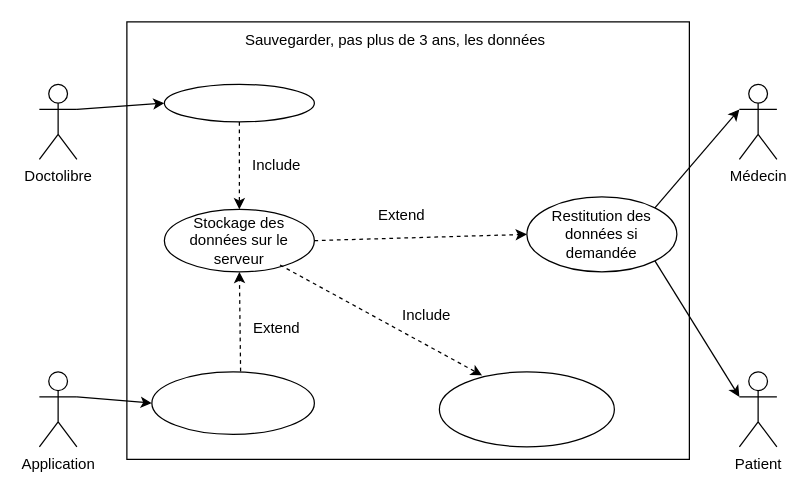
Image size: 808x495. Some labels were removed from this diagram. The centre of each missing label's shape, as x and y in pixels:
"Demande d'accès aux données du patient" belongs at [232,402].
"Héberger le serveur" belongs at [238,102].
"Suppression des données au bout de 3 ans" belongs at [526,409].
